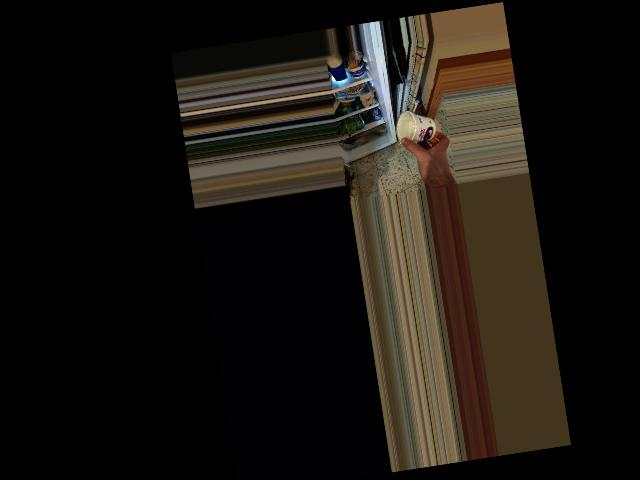cotage: (400, 104, 438, 147)
